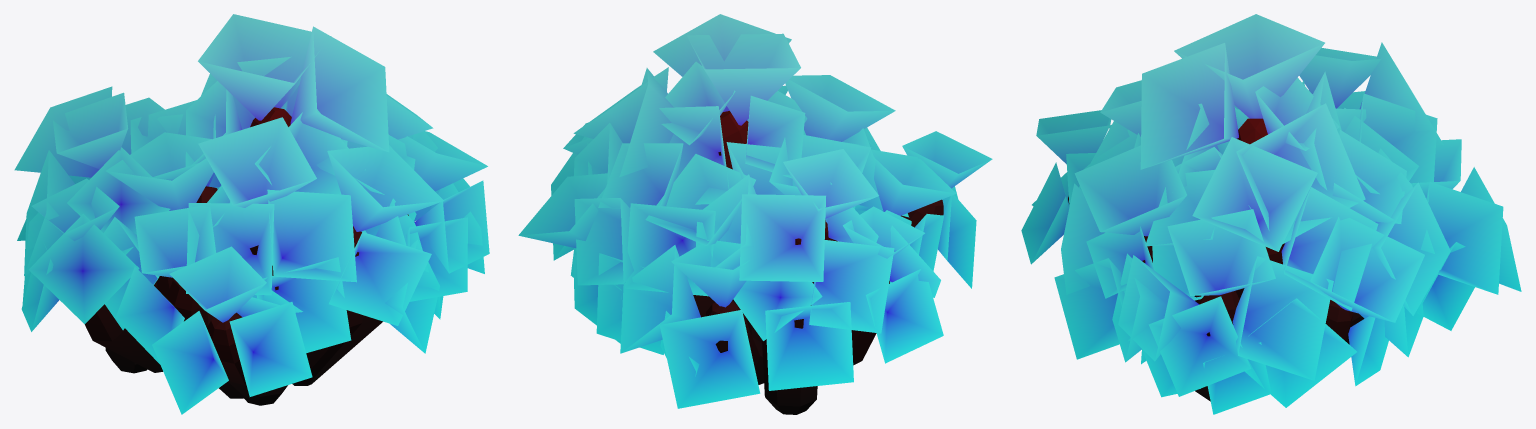
File: SM_Env_Cactus_01.fbx
The picture shows the model from 3 angles, left to right: view 1: azimuth 30°, elevation 25°; view 2: azimuth 150°, elevation 25°; view 3: azimuth 270°, elevation 25°; orthographic projection. The views are drawn at different scales.
Visible parts, largest first — view 1: SM_Env_Cactus_01_LOD0; view 2: SM_Env_Cactus_01_LOD0; view 3: SM_Env_Cactus_01_LOD0.
Boxes of the visible parts, x1,y1,x2,y2 form: SM_Env_Cactus_01_LOD0: (14,14,489,414); SM_Env_Cactus_01_LOD0: (518,14,992,414); SM_Env_Cactus_01_LOD0: (1021,14,1521,414).
Size of what is drawn, in the model's own units: 133 by 104 by 129.
